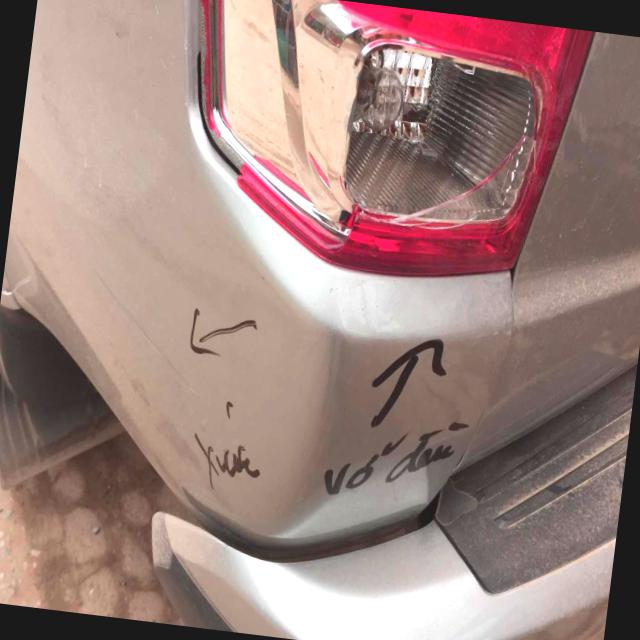Phare abime: (329, 23, 568, 251)
Rayure: (75, 265, 223, 425)
